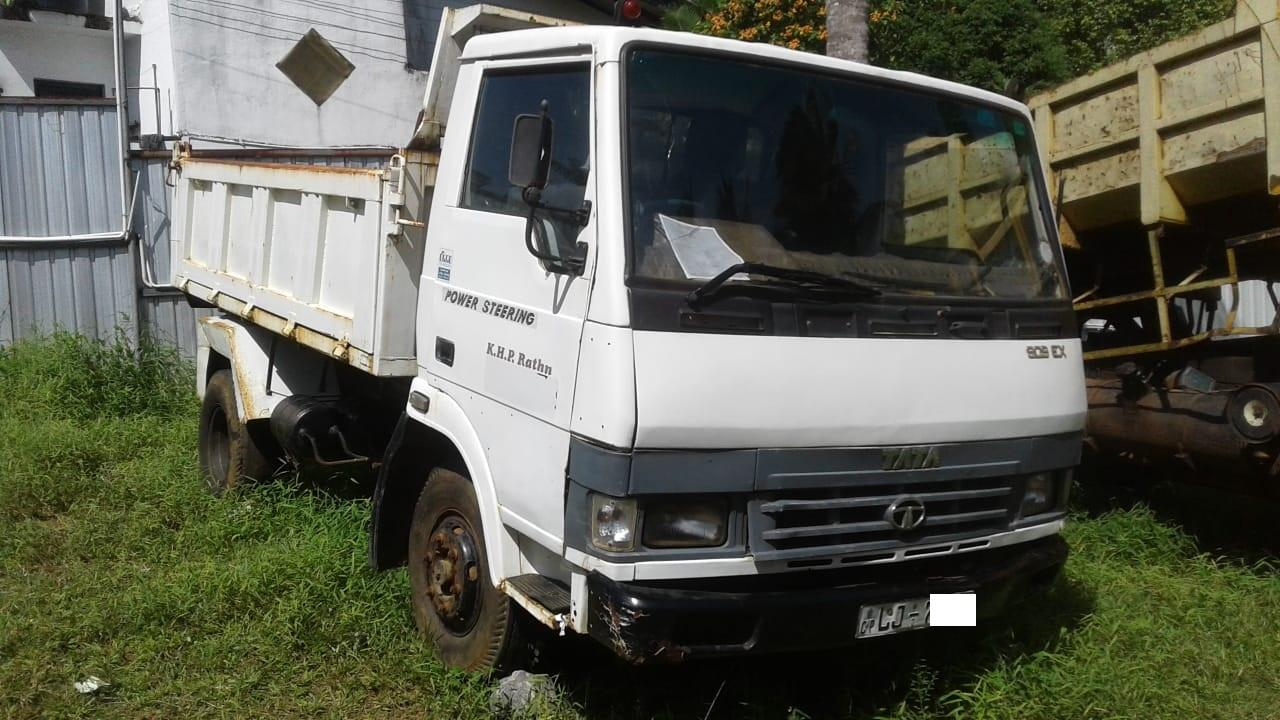truck: (168, 3, 1089, 684)
